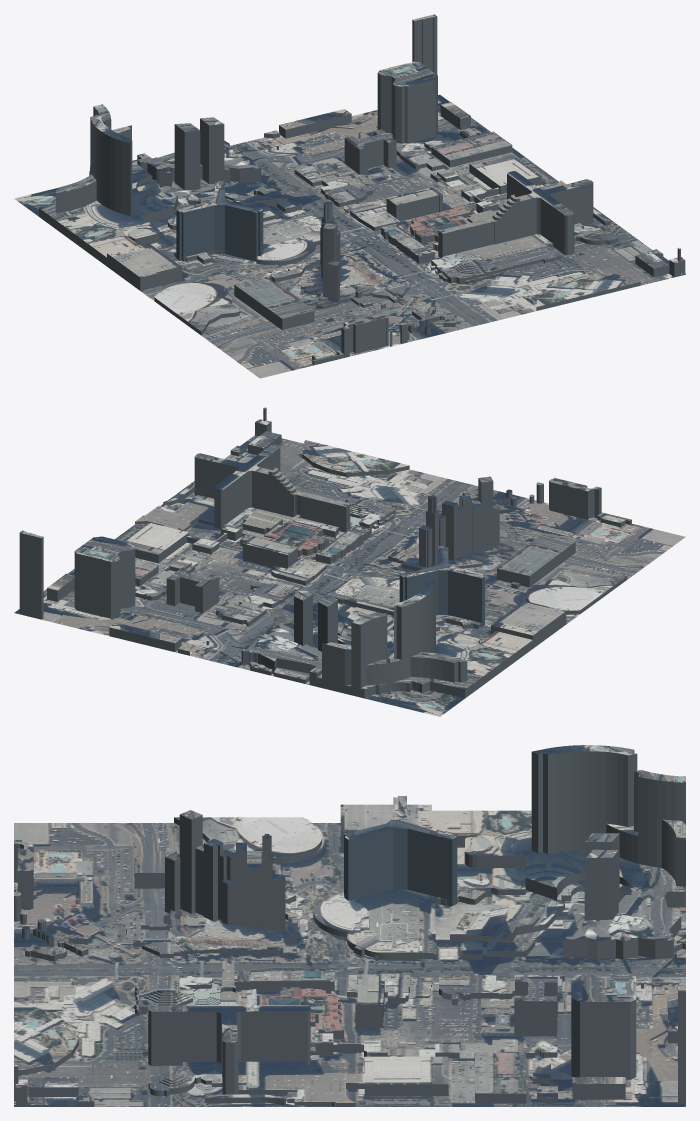
File: park-mgm-1km.obj
The picture shows the model from 3 angles, top to bottom: view 1: azimuth 30°, elevation 25°; view 2: azimuth 150°, elevation 25°; view 3: azimuth 270°, elevation 25°; orthographic projection. The views are drawn at different scales.
Bounding box in the file's own units: 1000 × 183 × 1000.
3 materials, 1 textured.
